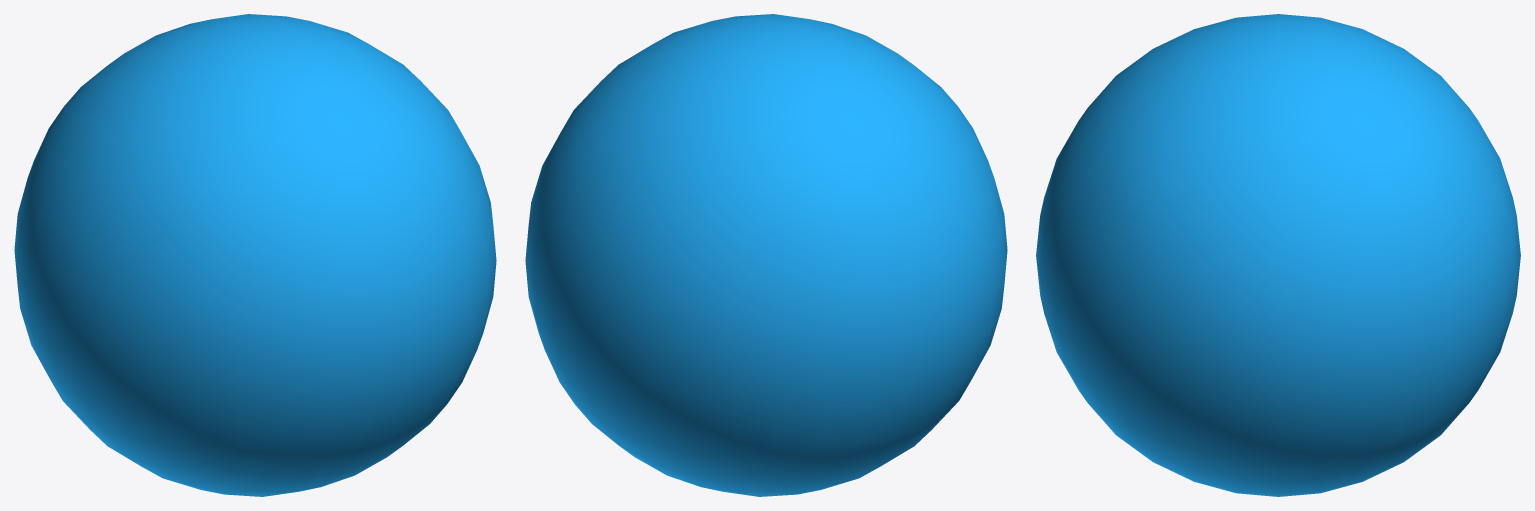
File: Lawn Orb 2.fbx
3 renders of one model, left to right at view 1: azimuth 30°, elevation 25°; view 2: azimuth 150°, elevation 25°; view 3: azimuth 270°, elevation 25°, orthographic.
Visible parts, largest first — view 1: Lawn Orb2; view 2: Lawn Orb2; view 3: Lawn Orb2.
Boxes of the visible parts, bbox=[...] form: Lawn Orb2: bbox=[14, 14, 496, 496]; Lawn Orb2: bbox=[525, 14, 1007, 496]; Lawn Orb2: bbox=[1036, 14, 1520, 496].
Bounding box in the file's own units: 10.74 × 10.74 × 10.74.
